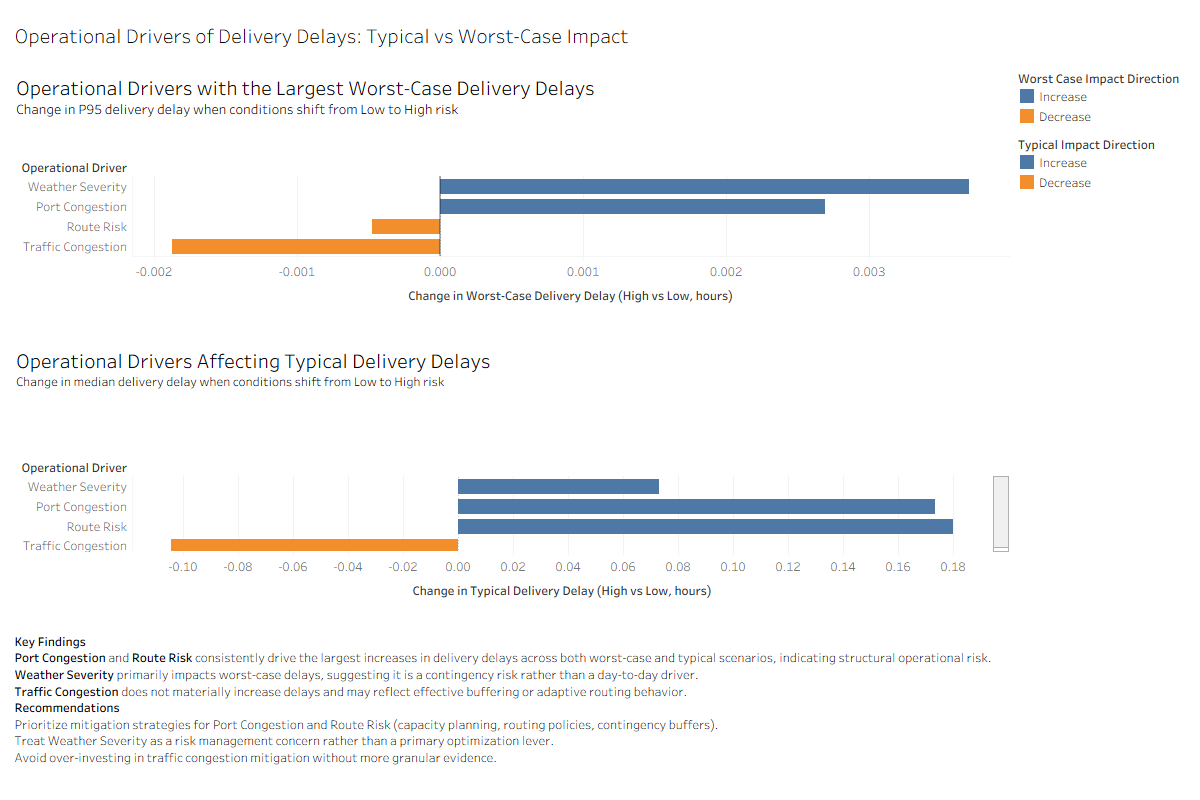

The page's visual inventory and layout, read from the dashboard file:
{"tool":"tableau","page":{"name":"Dashboard 1","canvas":[1200,800],"ordinal":0},"visuals":[{"type":"text","box":[8,8,1184,56]},{"type":"worksheet","title":"Worst-Case Delay Impact by Driver","mark":"Automatic","rows":["driver (vw_driver_impact_ranking)"],"cols":["worst_case_delay_increase_hours"],"box":[8,64,1024,273]},{"type":"legend","title":"Worst-Case Delay Impact by Driver","param":"[federated.003aplx16c3zg2126m1zo1md3gvy].[none:Calculation_1523400757608450:nk]","box":[1032,64,160,66]},{"type":"legend","title":"Typical Delay Impact by Driver ","param":"[federated.003aplx16c3zg2126m1zo1md3gvy].[none:Calculation_1523400758198275:nk]","box":[1032,130,160,66]},{"type":"worksheet","title":"Typical Delay Impact by Driver ","mark":"Automatic","rows":["driver (vw_driver_impact_ranking)"],"cols":["typical_delay_increase_hours"],"box":[8,337,1024,273]},{"type":"text","box":[8,610,1184,182]}]}

Visuals, with their boxes in screenshot pixels (x1, y1, x2, y2), scaled from the page's 1200x800 canvas onto the 1200x800 screenshot:
text: <bbox>8, 8, 1192, 64</bbox>
"Worst-Case Delay Impact by Driver" worksheet: <bbox>8, 64, 1032, 337</bbox>
"Worst-Case Delay Impact by Driver" legend: <bbox>1032, 64, 1192, 130</bbox>
"Typical Delay Impact by Driver " legend: <bbox>1032, 130, 1192, 196</bbox>
"Typical Delay Impact by Driver " worksheet: <bbox>8, 337, 1032, 610</bbox>
text: <bbox>8, 610, 1192, 792</bbox>
